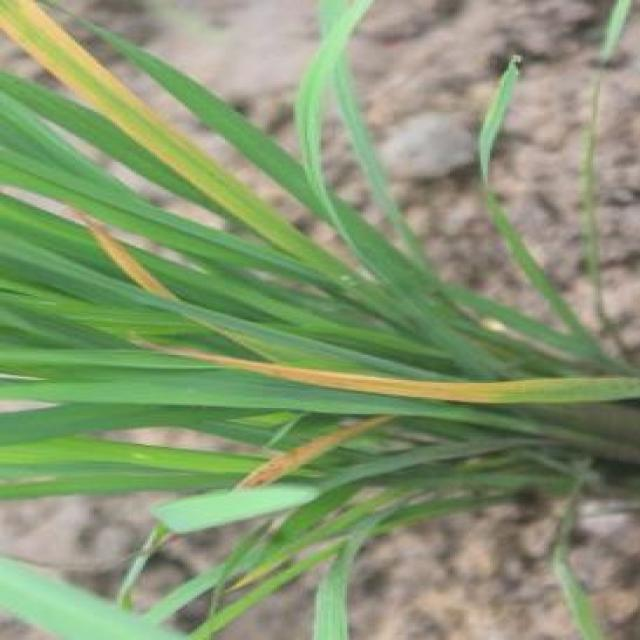Tungro: (167, 333, 626, 418), (0, 0, 164, 119), (64, 206, 193, 296)
